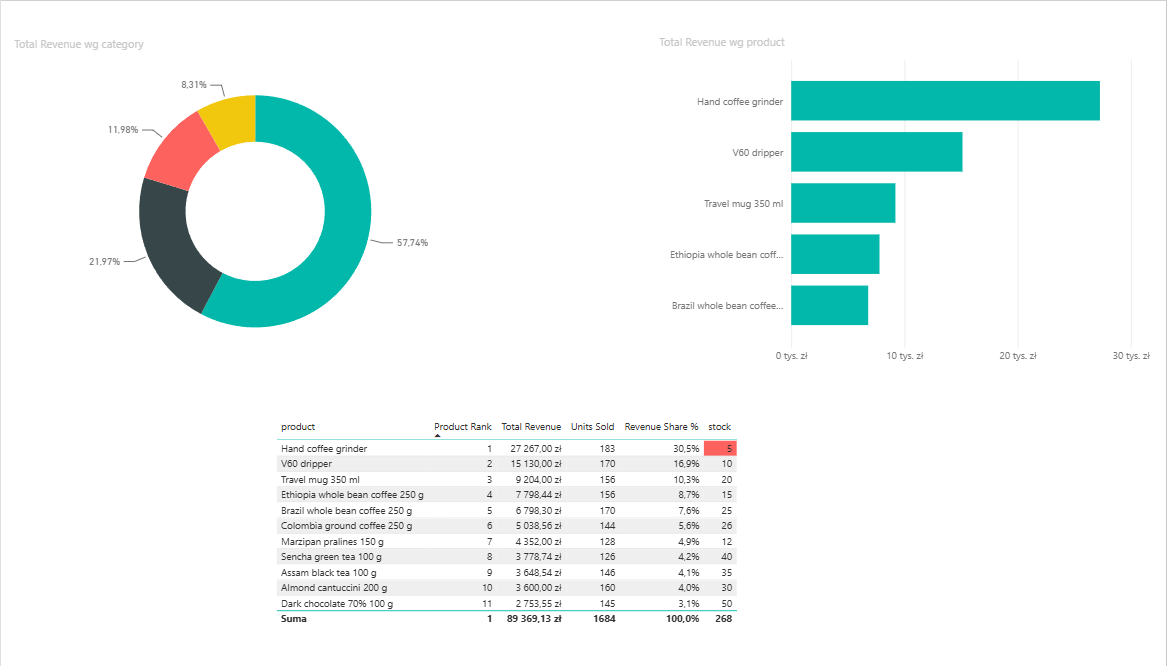

The dashboard page shown, as its layout file describes it:
{"tool":"powerbi","page":{"name":"Products","canvas":[1280,720],"ordinal":1},"visuals":[{"type":"donutChart","fields":{"Category":["dim_product.category"],"Y":["fact_sales.Total Revenue"]},"box":[9.6,20.6,539.3,367.8],"z":0},{"type":"tableEx","fields":{"Values":["dim_product.product","fact_sales.Product Rank","fact_sales.Total Revenue","fact_sales.Units Sold","fact_sales.Revenue Share %","Sum(dim_product.stock)"]},"box":[296.4,435,606.5,263.5],"z":1},{"type":"clusteredBarChart","fields":{"Category":["dim_product.product"],"Y":["fact_sales.Total Revenue"]},"box":[717.7,17.8,548.9,370.5],"z":2}]}

Visuals, with their boxes in screenshot pixels (x1, y1, x2, y2), scaled from the page's 1280x720 canvas onto the 1167x666 screenshot:
donutChart - dim_product.category x fact_sales.Total Revenue: BBox(9, 19, 500, 359)
tableEx - dim_product.product x fact_sales.Product Rank: BBox(270, 402, 823, 646)
clusteredBarChart - dim_product.product x fact_sales.Total Revenue: BBox(654, 16, 1155, 359)
